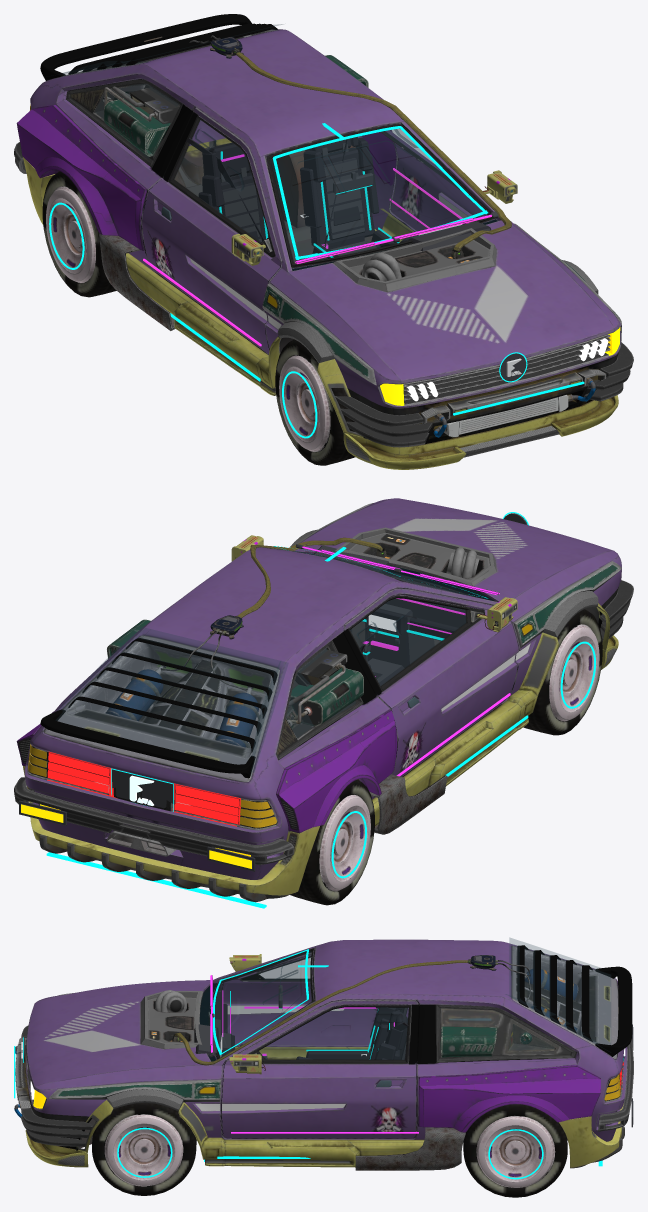
Rendered from car-high.glb.
The picture shows the model from 3 angles, top to bottom: view 1: azimuth 30°, elevation 25°; view 2: azimuth 150°, elevation 25°; view 3: azimuth 270°, elevation 25°; orthographic projection. The views are drawn at different scales.
Visible parts, largest first — view 1: body, cockpit_static, wheel_FR, wheel_RR, neon_body, interior_extra, glass_rear; view 2: body, glass_rear, wheel_RR, cockpit_static, wheel_FR, neon_body, logo_rear_plate, signal_plate_R, signal_plate_L; view 3: body, wheel_FL, wheel_RL, glass_rear, cockpit_static, neon_body.
Boxes of the visible parts, <box> form: body: <box>14,14,633,469</box>; cockpit_static: <box>198,136,491,261</box>; wheel_FR: <box>275,339,355,465</box>; wheel_RR: <box>42,171,116,297</box>; neon_body: <box>143,123,584,415</box>; interior_extra: <box>186,138,373,250</box>; glass_rear: <box>47,24,282,158</box>; body: <box>14,498,633,902</box>; glass_rear: <box>56,626,355,776</box>; wheel_RR: <box>290,779,374,905</box>; cockpit_static: <box>314,545,466,685</box>; wheel_FR: <box>523,609,602,735</box>; neon_body: <box>46,546,528,908</box>; logo_rear_plate: <box>111,768,174,811</box>; signal_plate_R: <box>207,846,255,871</box>; signal_plate_L: <box>19,800,66,825</box>; body: <box>14,939,633,1170</box>; wheel_FL: <box>92,1103,196,1195</box>; wheel_RL: <box>463,1104,567,1197</box>; glass_rear: <box>505,938,610,1050</box>; cockpit_static: <box>194,990,408,1059</box>; neon_body: <box>14,949,602,1166</box>.
Bounding box in the file's own units: 1.98 × 1.54 × 4.61.
19 materials, 1 textured.
